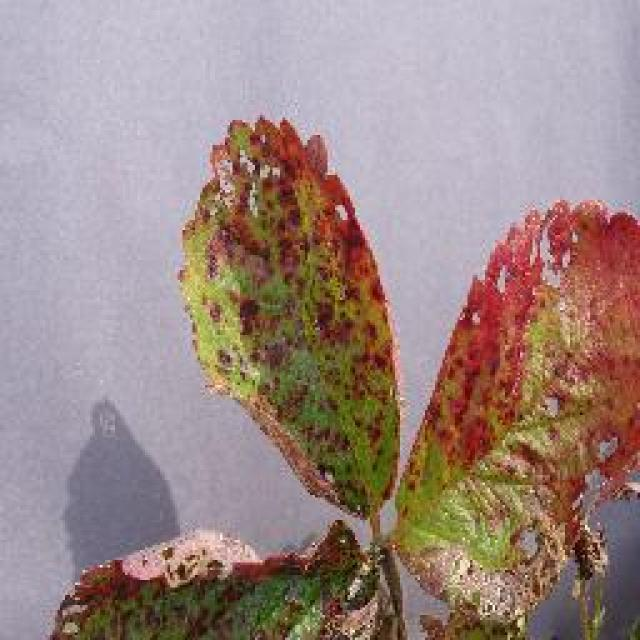Strawberry leaf scorch: (227, 165, 373, 408)
